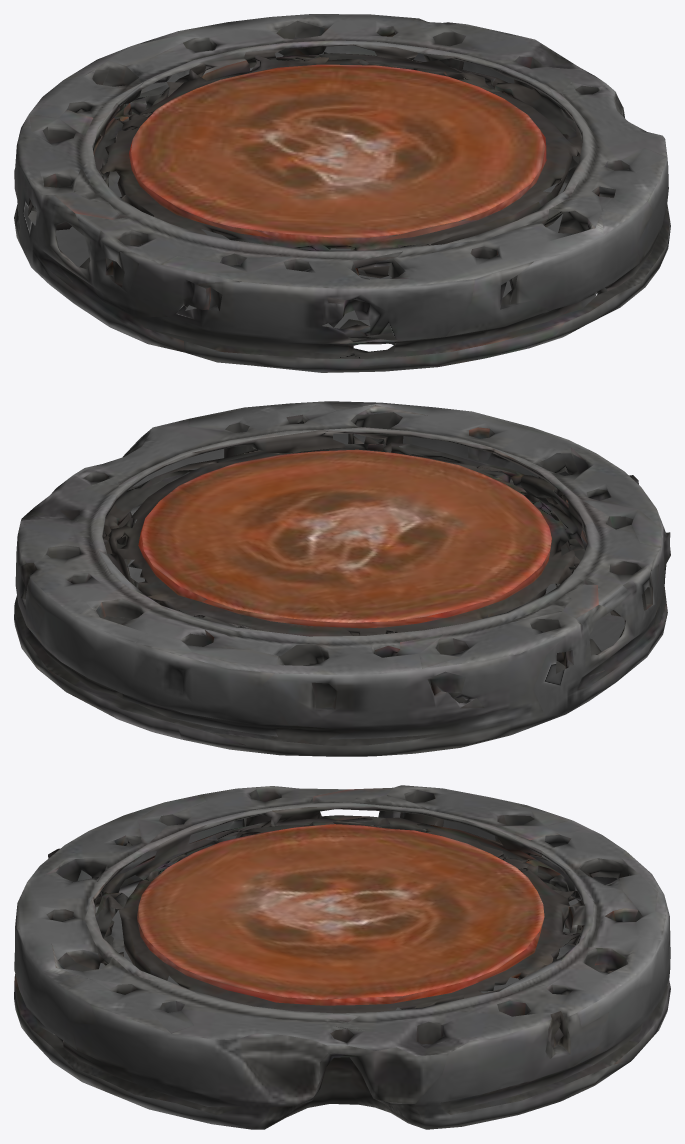
Rendered from rf_tripglyph.glb.
The picture shows the model from 3 angles, top to bottom: view 1: azimuth 30°, elevation 25°; view 2: azimuth 150°, elevation 25°; view 3: azimuth 270°, elevation 25°; orthographic projection.
Visible parts, largest first — view 1: geometry_0; view 2: geometry_0; view 3: geometry_0.
Boxes of the visible parts, left/top/right/bottom form: geometry_0: left=14, top=14, right=670, bottom=372; geometry_0: left=14, top=401, right=670, bottom=756; geometry_0: left=14, top=785, right=670, bottom=1129.
Size of the model in its own units: 0.9589 by 0.1478 by 1.
Materials: 1 (1 with a texture image).
